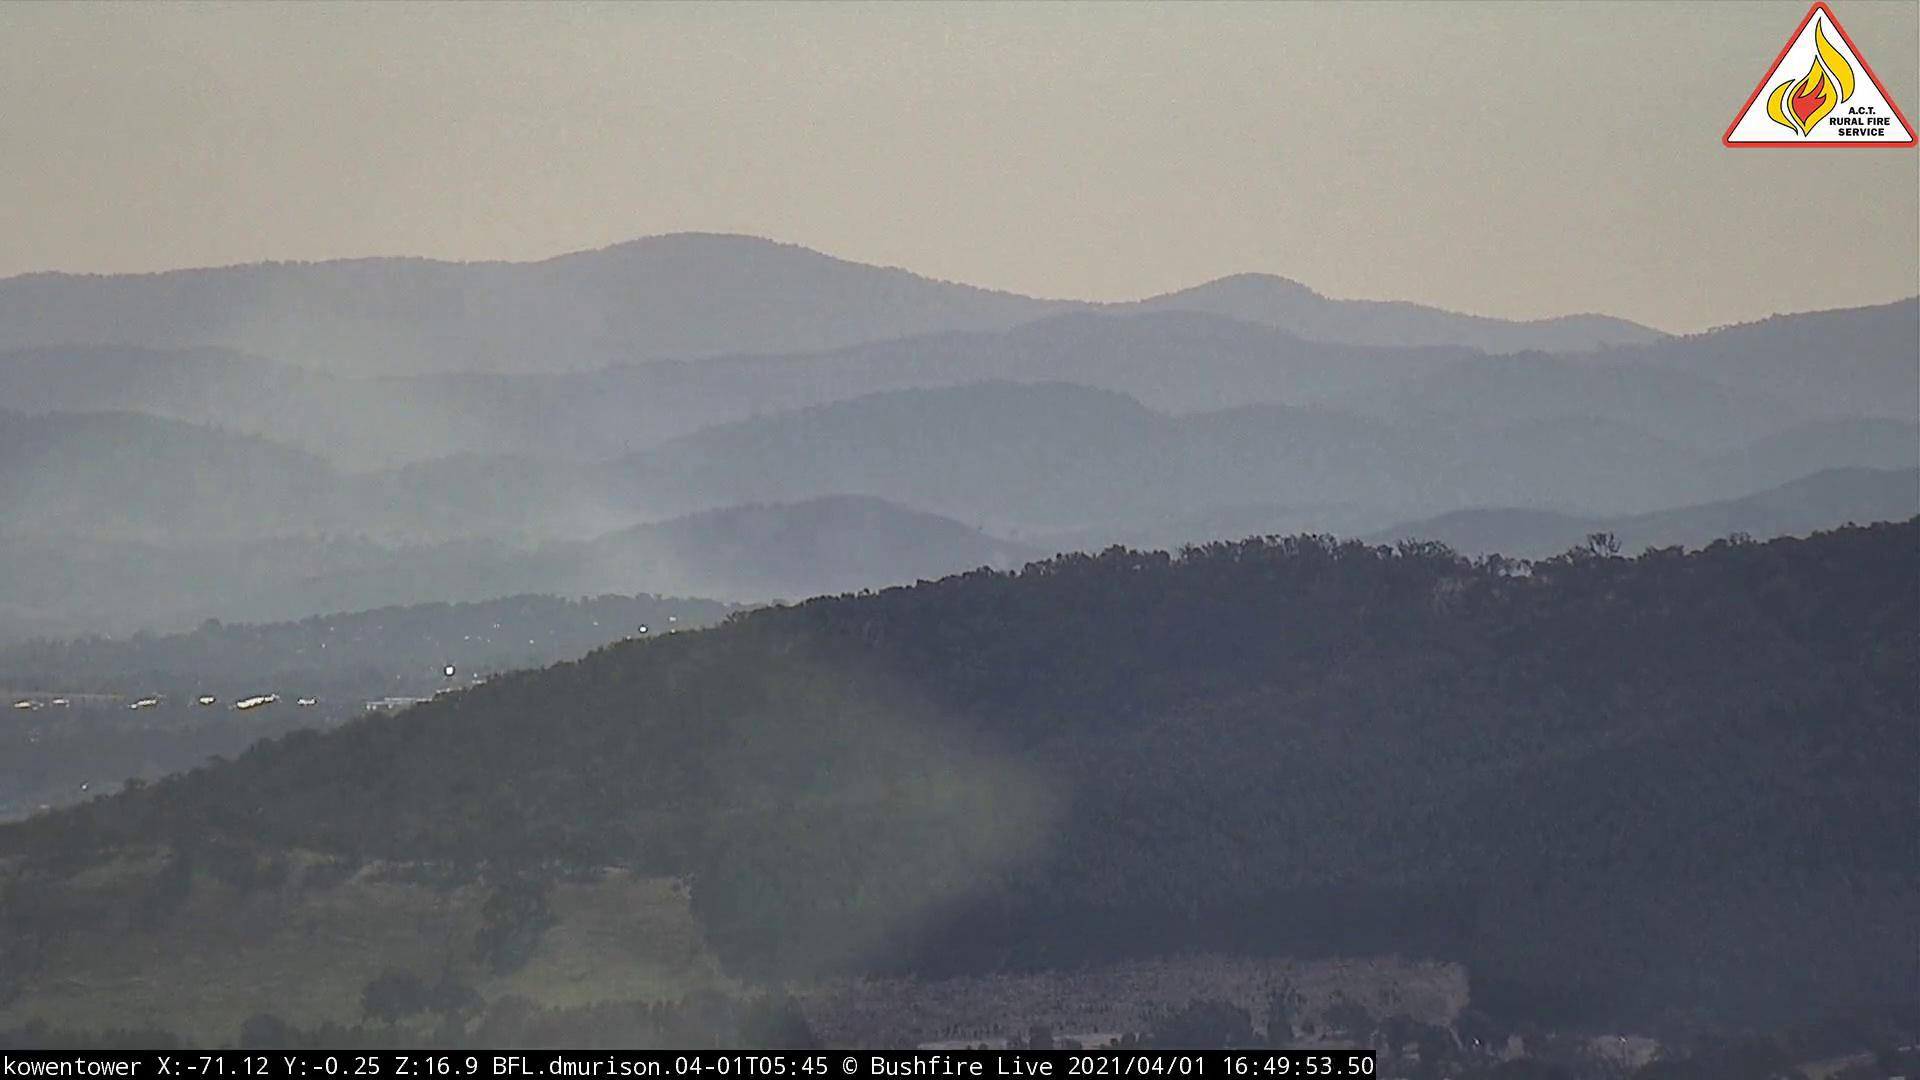Smoke: (502, 364, 960, 626)
